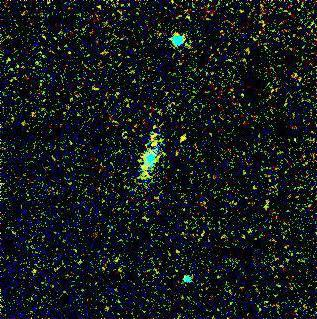star: (169, 123, 199, 153)
